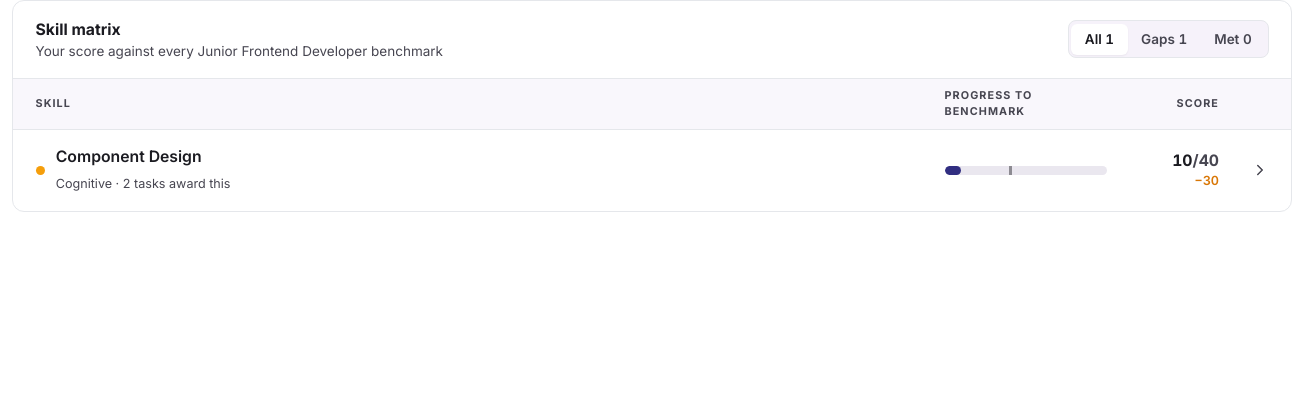
Test case: SkillMatrix › hides the source tasks until the row is expanded
Expected: the text "Your First React Component" is not shown
Click the button "Component Design Cognitive · 2 tasks award this 10/40 −30" at (129, 156), box [13,130,1291,211]
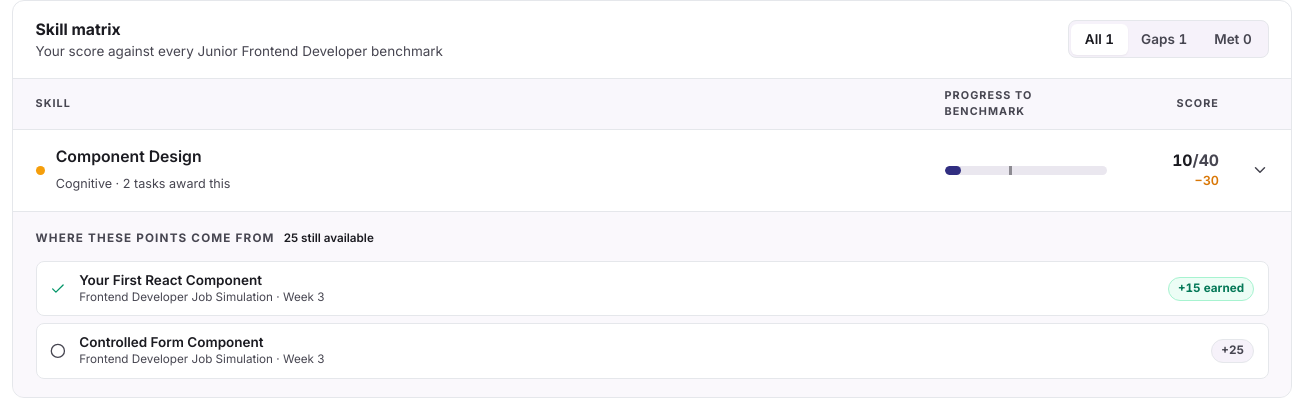
Result: the text "Your First React Component" is shown at [79,272,262,288]
Result: the text "Controlled Form Component" is shown at [79,334,264,350]
